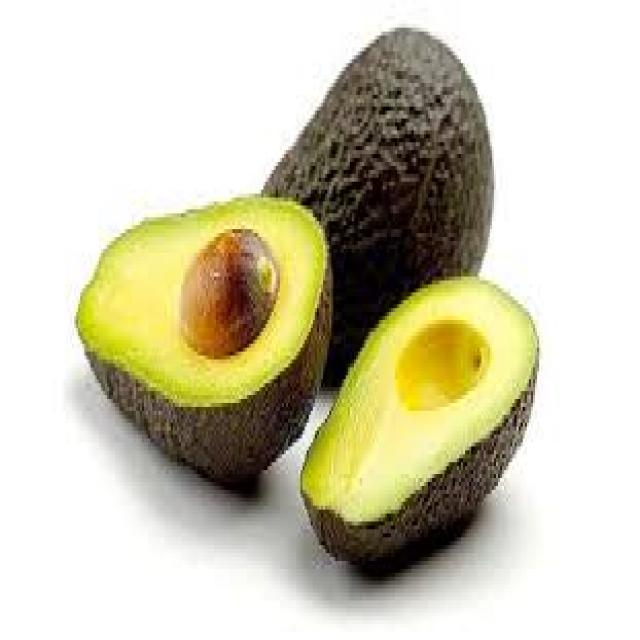organic waste: (249, 24, 496, 383), (70, 190, 331, 482), (298, 265, 537, 565), (181, 221, 280, 356)
